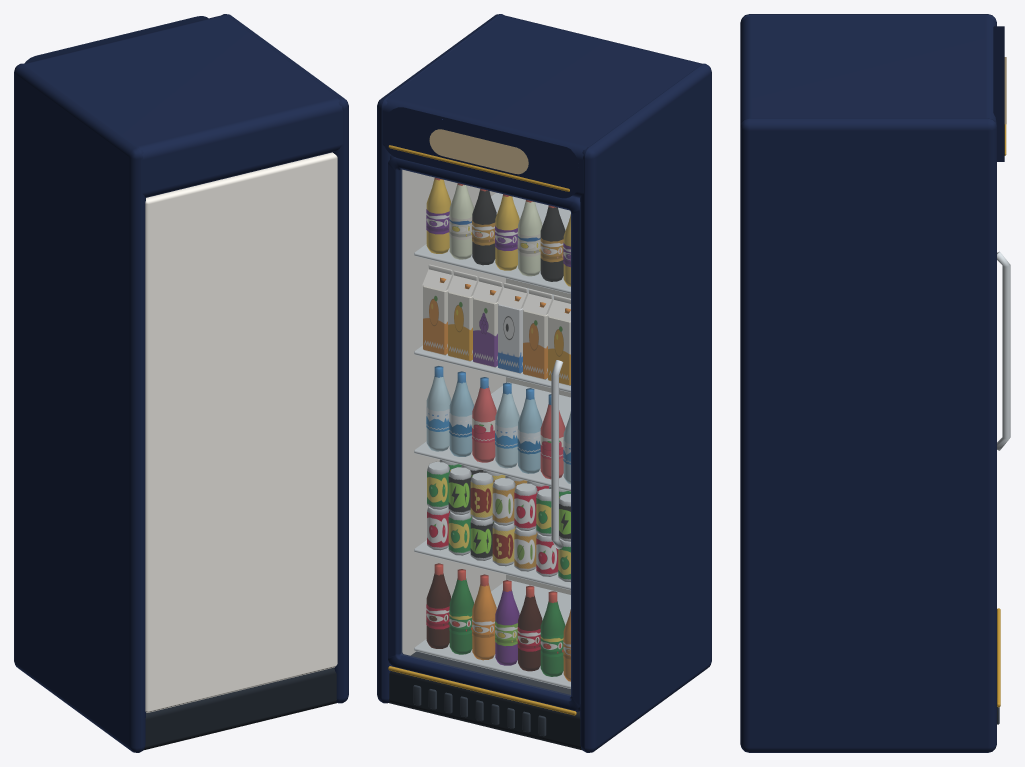
Rendered from drinks_T1.fbx.
3 views of the same model, side by side, from view 1: azimuth 30°, elevation 25°; view 2: azimuth 150°, elevation 25°; view 3: azimuth 270°, elevation 25° (orthographic). The views are drawn at different scales.
Visible parts, largest first — view 1: Body; view 2: Body, Anim Fill 0, Anim Fill 1, Anim Fill 2, Anim Fill 3; view 3: Body.
Part boxes in pixels (<box>): Body: <box>14,14,348,752</box>; Body: <box>377,14,711,752</box>; Anim Fill 0: <box>422,177,483,654</box>; Anim Fill 1: <box>470,189,528,665</box>; Anim Fill 2: <box>514,200,570,676</box>; Anim Fill 3: <box>547,214,570,681</box>; Body: <box>740,14,1010,752</box>.
Bounding box in the file's own units: 0.7 × 1.85 × 0.716.
